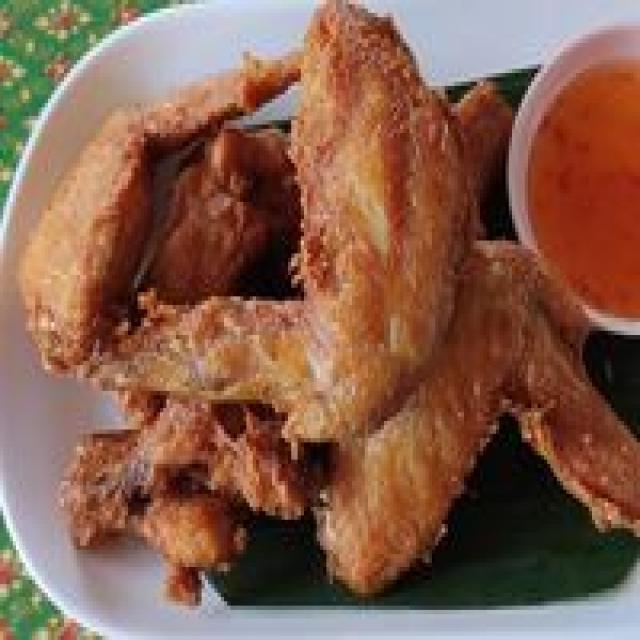Frango: (310, 68, 640, 592), (90, 8, 467, 430), (80, 120, 310, 580), (26, 34, 310, 374)
